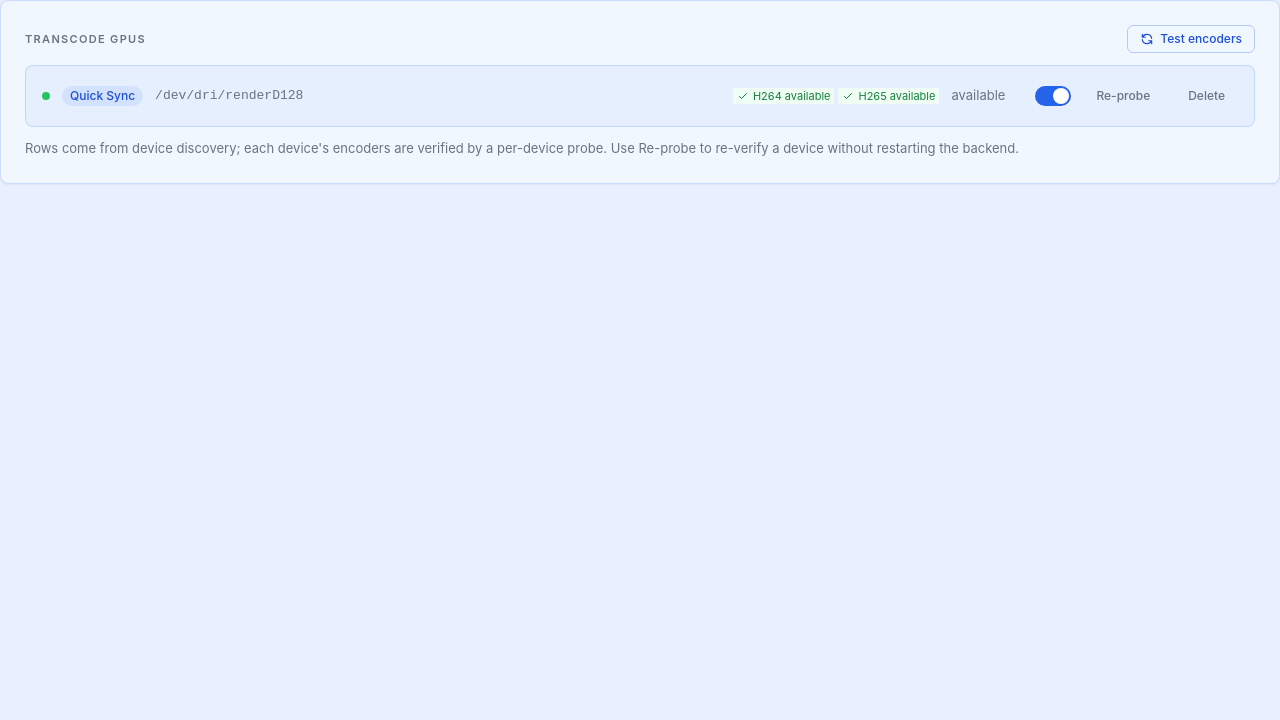
GpusCard › a 409 delete shows the in-use message and keeps the row
Click the button with aria-label "Delete qsv" at (1207, 96), box [1175,82,1238,110]
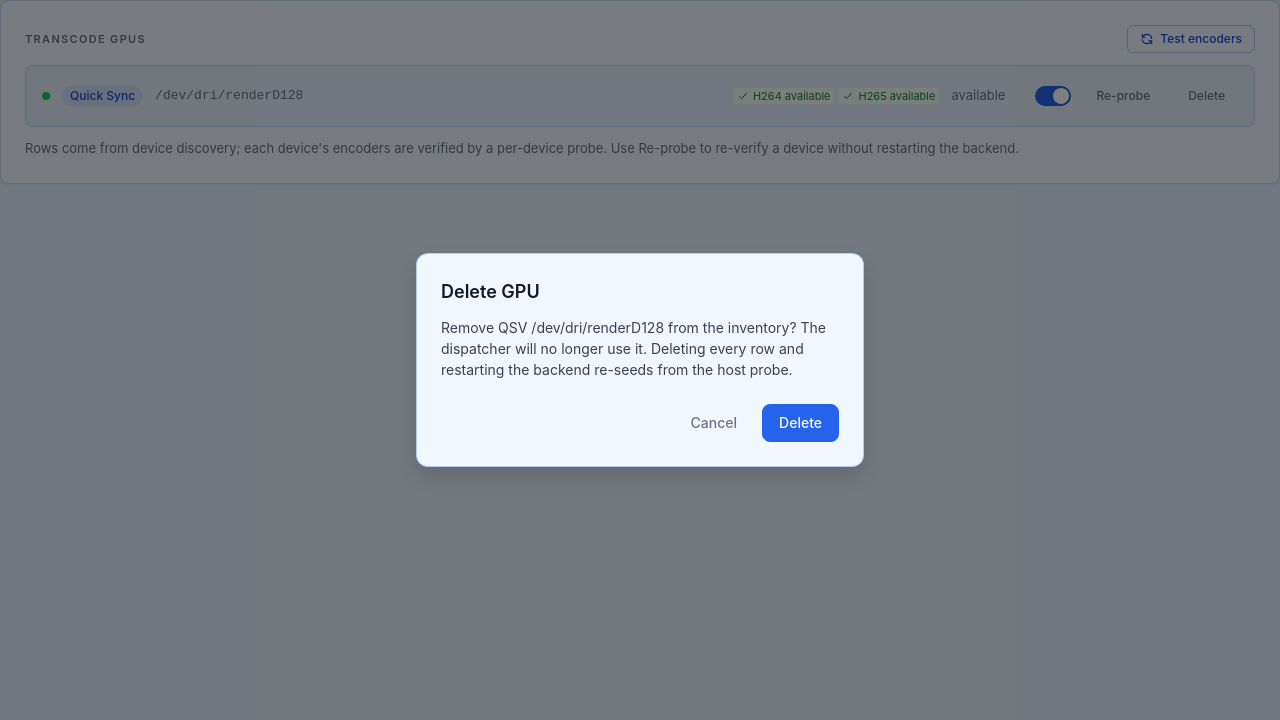
Click the button "Delete" at (801, 423), box [762,404,839,442]
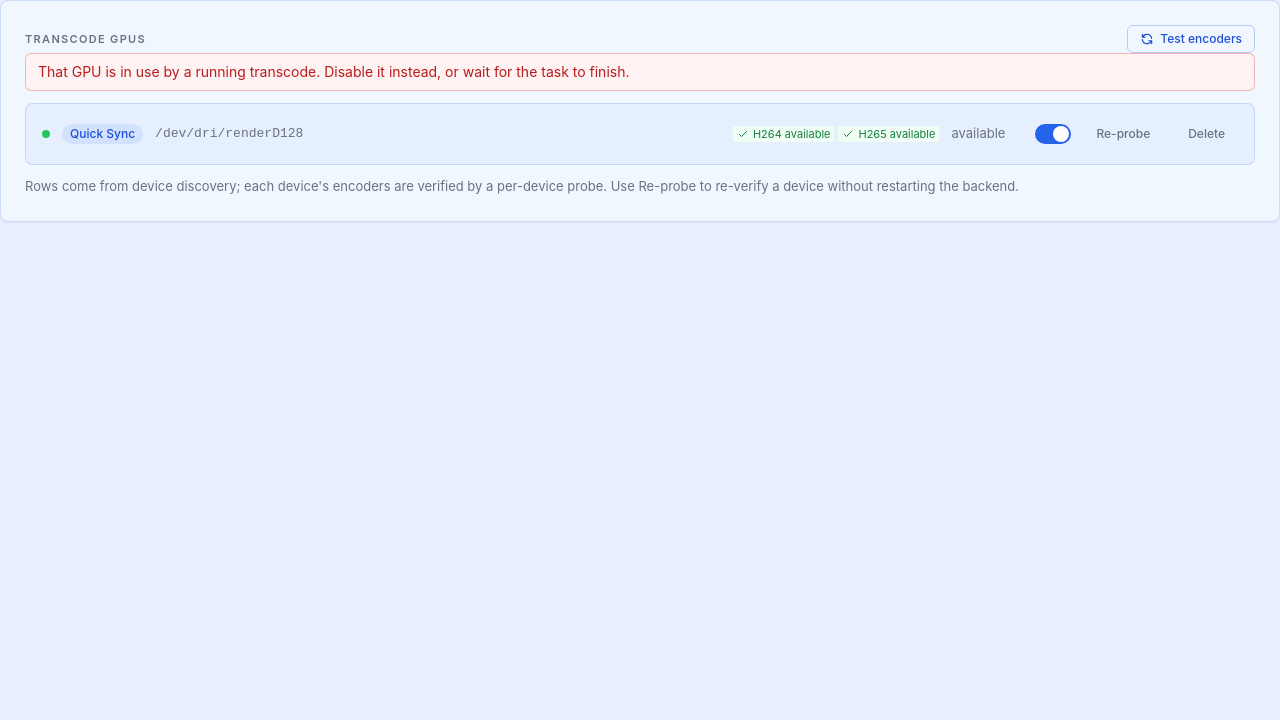
Expected: the text "Quick Sync" is shown, [62,124,143,144]
Result: the message shows "in use by a running transcode" at [38,63,630,80]
